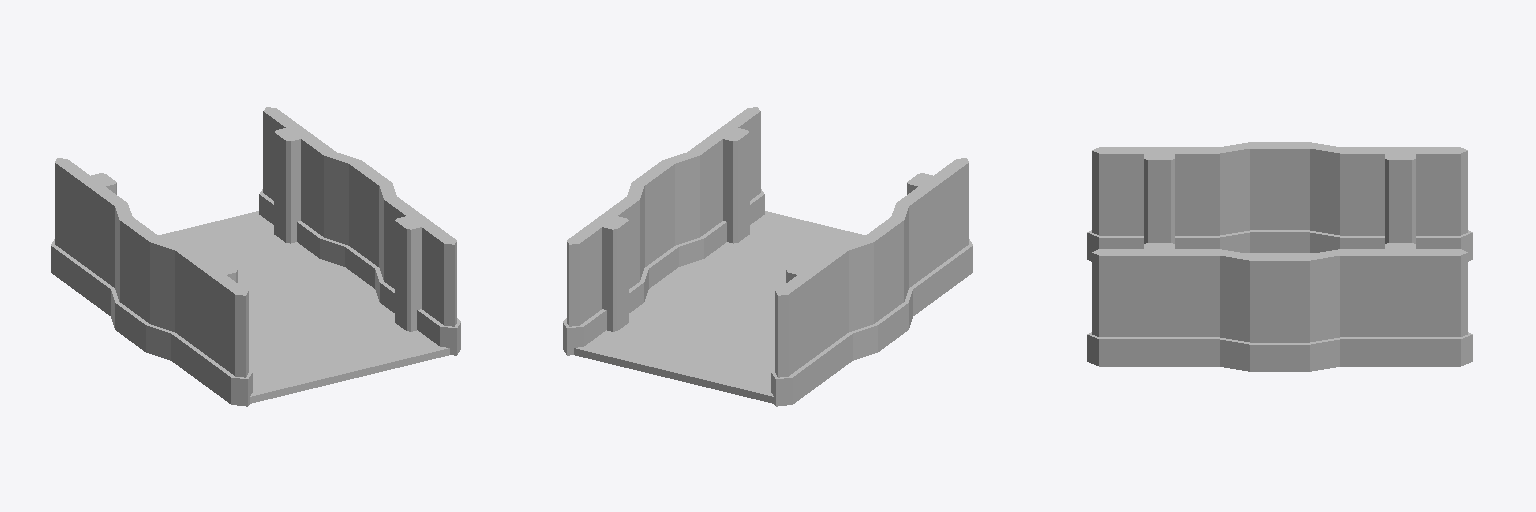
File: hallway_08.obj
3 renders of one model, left to right at view 1: azimuth 30°, elevation 25°; view 2: azimuth 150°, elevation 25°; view 3: azimuth 270°, elevation 25°, orthographic.
Parts seen in each view (by area): view 1: floor_04_56, wall_02_63, wall_02_61, wall_02_64, wall_03_65, wall_02_62, wall_03_66, floor_06_55, floor_04_59; view 2: floor_04_59, wall_02_64, wall_02_62, wall_02_63, wall_03_65, wall_02_61, wall_03_66, floor_06_55, floor_04_56; view 3: wall_02_61, wall_02_62, wall_03_66, wall_03_65, wall_02_64, wall_02_63.
Part boxes in pixels (x1,y1,x2,y2): floor_04_56: (249,299,449,403); wall_02_63: (171,246,252,406); wall_02_61: (380,197,460,355); wall_02_64: (51,158,127,315); wall_03_65: (111,202,185,360); wall_02_62: (259,107,336,258); wall_03_66: (320,151,396,301); floor_06_55: (238,256,381,337); floor_04_59: (158,211,322,281); floor_04_59: (574,299,774,403); wall_02_64: (771,246,852,406); wall_02_62: (563,196,643,355); wall_02_63: (896,158,972,315); wall_03_65: (838,204,912,360); wall_02_61: (688,107,764,258); wall_03_66: (627,152,703,301); floor_06_55: (645,256,785,335); floor_04_56: (701,211,865,278); wall_02_61: (1087,243,1226,366); wall_02_62: (1333,243,1472,366); wall_03_66: (1215,249,1344,371); wall_03_65: (1212,142,1345,252); wall_02_64: (1333,147,1472,261); wall_02_63: (1087,147,1226,261).
Bounding box in the file's own units: 2.4 × 1 × 3.21.